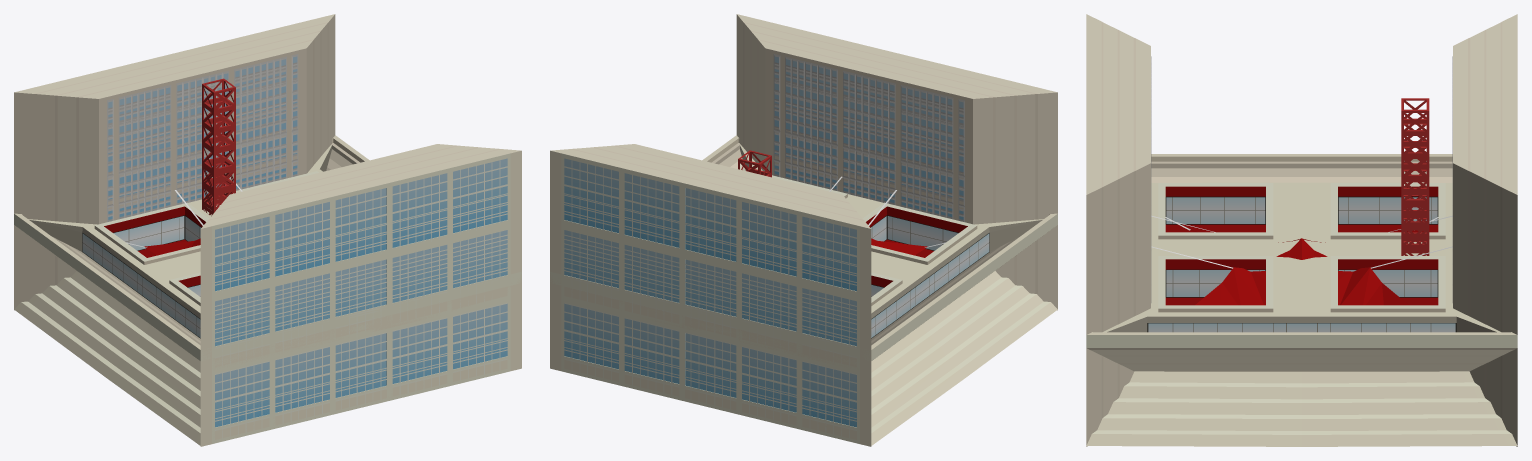
3 renders of one model, left to right at view 1: azimuth 30°, elevation 25°; view 2: azimuth 150°, elevation 25°; view 3: azimuth 270°, elevation 25°, orthographic. The views are drawn at different scales.
Parts seen in each view (by area): view 1: archeMid, archeFloor, archeRoof, crane.001, crane.003; view 2: archeMid, archeFloor, archeRoof; view 3: archeRoof, archeFloor, archeMid, crane.003, crane.001.
Boxes of the visible parts, box(x1,y1,x2,y2) form: archeMid: box(14, 14, 521, 446); archeFloor: box(14, 21, 508, 445); archeRoof: box(14, 135, 521, 446); crane.001: box(202, 78, 235, 216); crane.003: box(202, 80, 233, 214); archeMid: box(550, 14, 1057, 446); archeFloor: box(564, 16, 1057, 446); archeRoof: box(550, 135, 1057, 446); archeRoof: box(1086, 154, 1517, 419); archeFloor: box(1086, 60, 1517, 446); archeMid: box(1086, 14, 1517, 446); crane.003: box(1401, 100, 1429, 255); crane.001: box(1401, 98, 1429, 255).
Size of the model in its own units: 0.7771 by 0.5037 by 0.7816.
